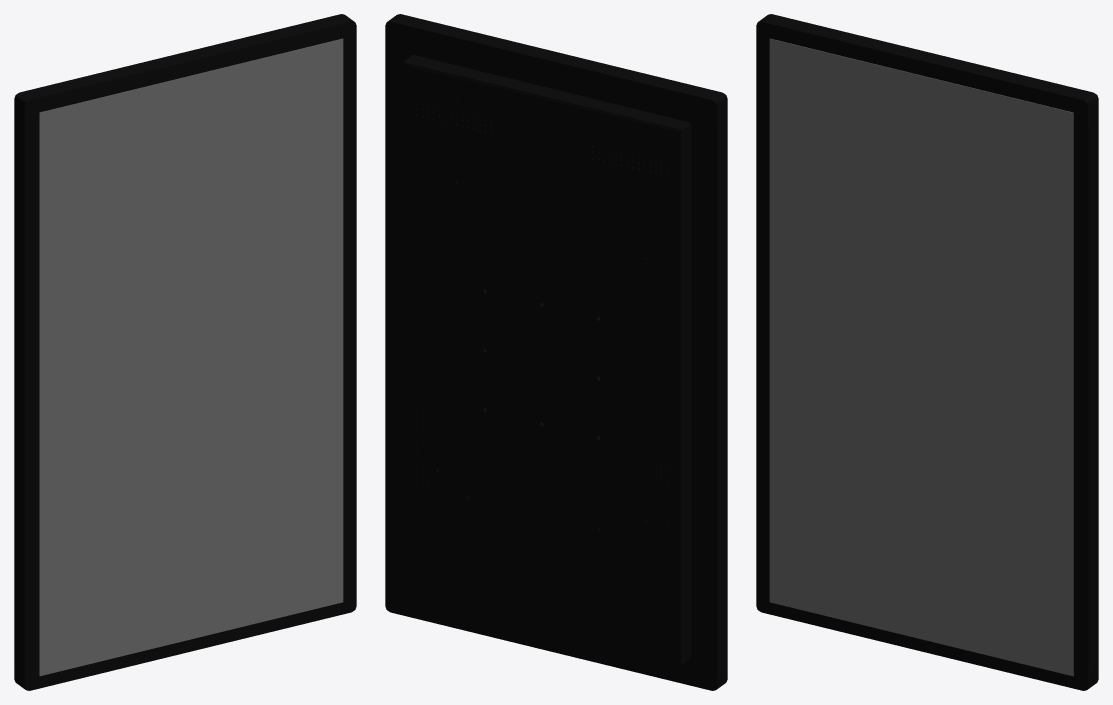
File: UTC-542.fbx
3 views of the same model, side by side, from view 1: azimuth 30°, elevation 25°; view 2: azimuth 150°, elevation 25°; view 3: azimuth 330°, elevation 25° (orthographic).
Visible parts, largest first — view 1: A; view 2: B, A; view 3: A.
Boxes of the visible parts, box(x1,y1,x2,y2) form: A: box(14, 14, 356, 690); B: box(385, 21, 717, 690); A: box(387, 14, 727, 689); A: box(756, 14, 1098, 690).
Size of the model in its own units: 60.89 by 103 by 6.58.
